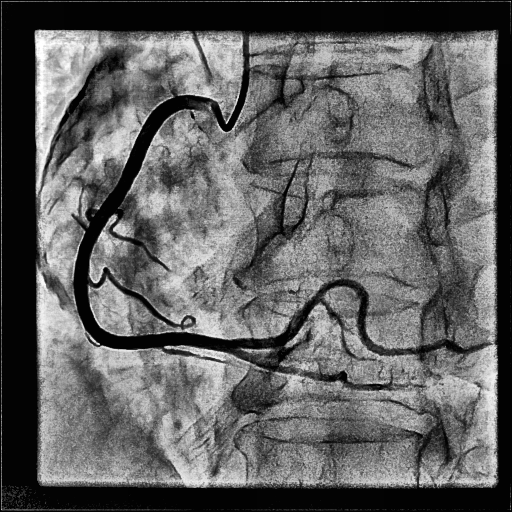pborca: (227, 279, 493, 356)
pda: (229, 350, 437, 391)
rca: (73, 95, 229, 353)
